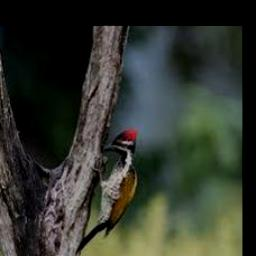Woodpecker: (75, 130, 137, 253)
